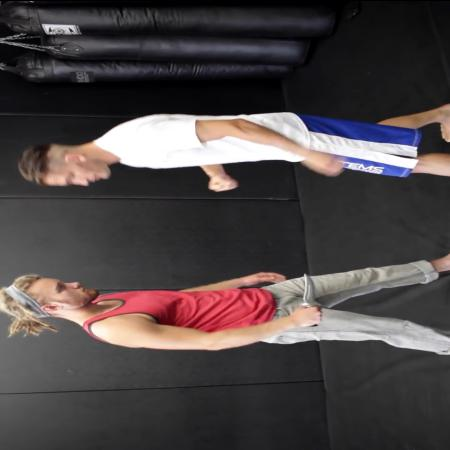long weapon: (296, 270, 324, 330)
